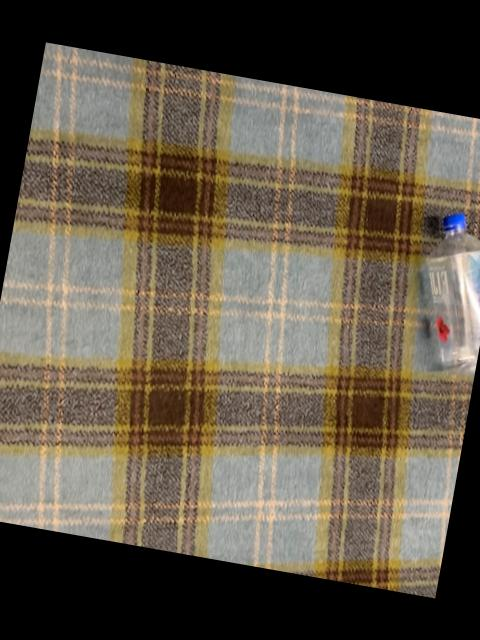plastic: (423, 216, 480, 374)
